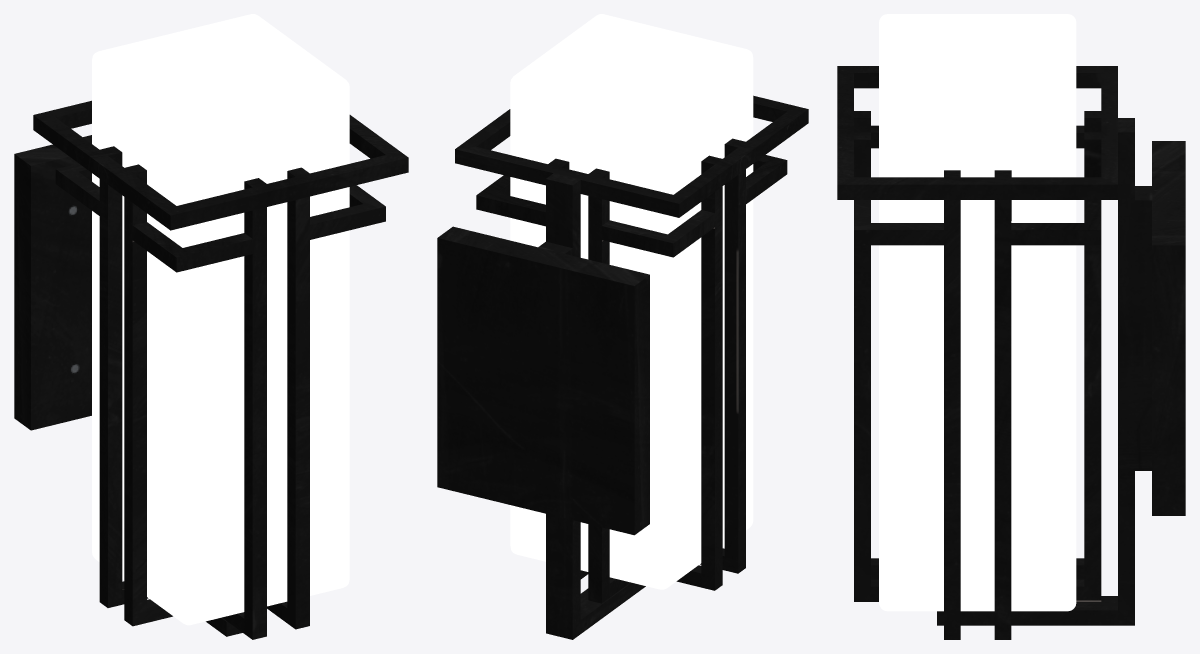
The picture shows the model from 3 angles, left to right: view 1: azimuth 30°, elevation 25°; view 2: azimuth 150°, elevation 25°; view 3: azimuth 270°, elevation 25°; orthographic projection. The views are drawn at different scales.
Parts seen in each view (by area): view 1: #LMP0006_Deco_Wall_Metal_Black; view 2: #LMP0006_Deco_Wall_Metal_Black; view 3: #LMP0006_Deco_Wall_Metal_Black.
Part boxes in pixels (x1,y1,x2,y2): #LMP0006_Deco_Wall_Metal_Black: (14,14,408,639); #LMP0006_Deco_Wall_Metal_Black: (437,14,808,639); #LMP0006_Deco_Wall_Metal_Black: (837,14,1185,639).
Bounding box in the file's own units: 0.189 × 0.4199 × 0.2345.
1 material, 1 textured.
